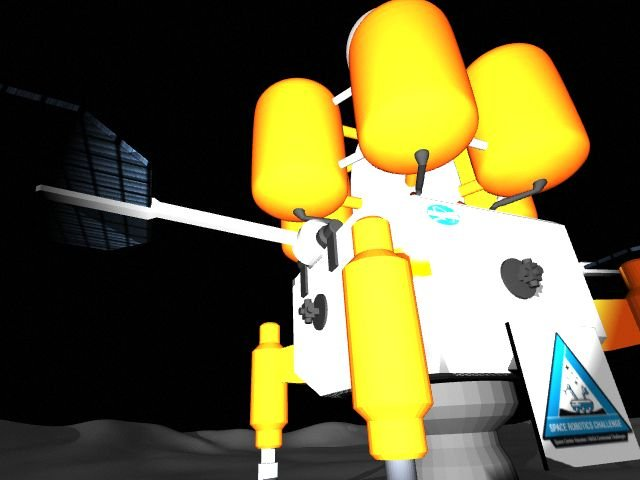basemarker: (541, 331, 634, 451)
